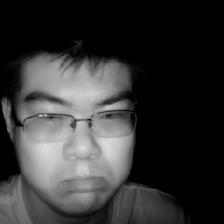sad: (5, 48, 143, 215)
